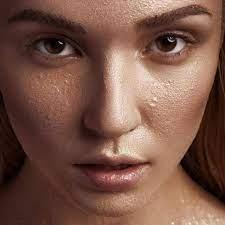Oily-Skin: (41, 74, 79, 107), (148, 81, 192, 107), (106, 110, 144, 131), (126, 0, 177, 14)
